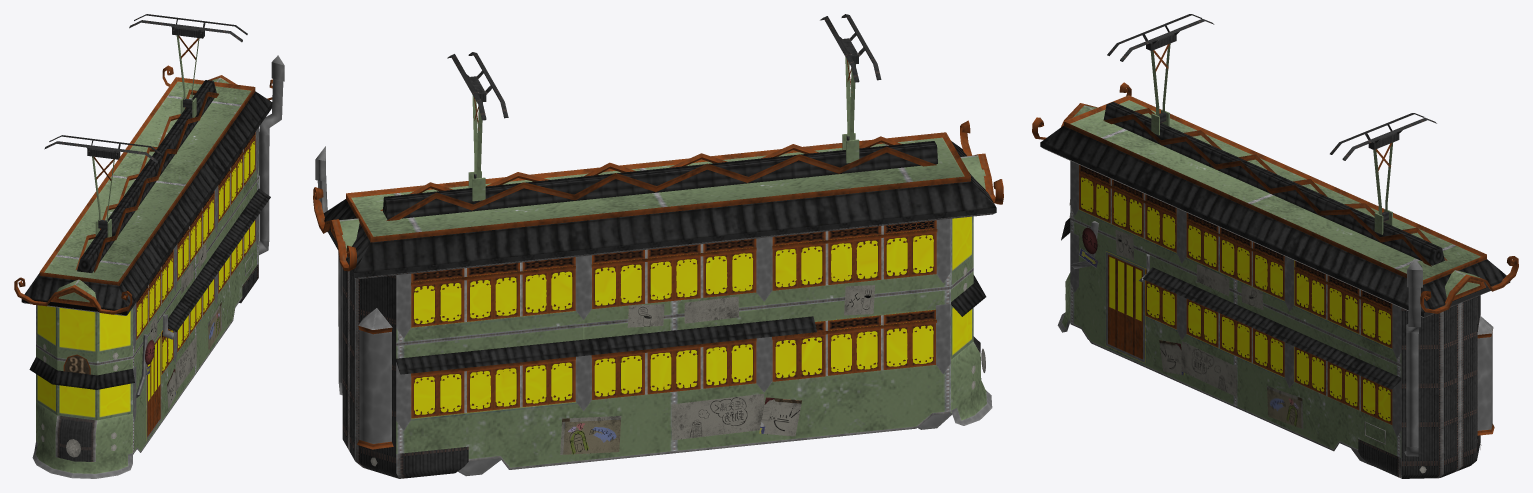
The model's file is TrainV2.fbx.
The picture shows the model from 3 angles, left to right: view 1: azimuth 30°, elevation 25°; view 2: azimuth 150°, elevation 25°; view 3: azimuth 270°, elevation 25°; orthographic projection. The views are drawn at different scales.
Parts seen in each view (by area): view 1: TrainV2; view 2: TrainV2; view 3: TrainV2.
Boxes of the visible parts, x1,y1,x2,y2 form: TrainV2: (14, 14, 284, 478); TrainV2: (313, 14, 1003, 478); TrainV2: (1032, 14, 1518, 478).
Bounding box in the file's own units: 1430 × 1008 × 1386.
